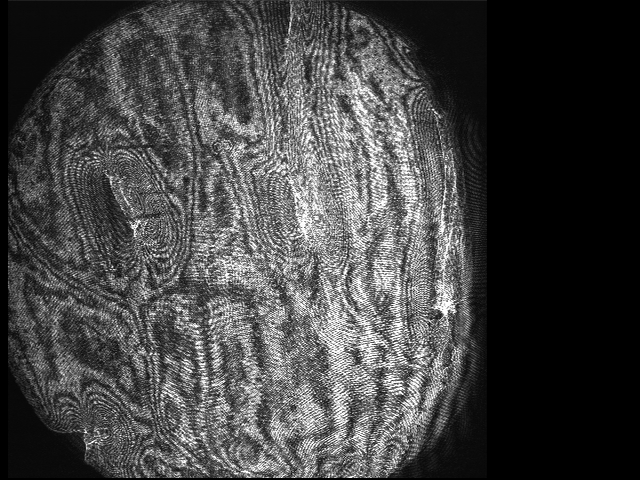plume: (71, 141, 185, 270)
